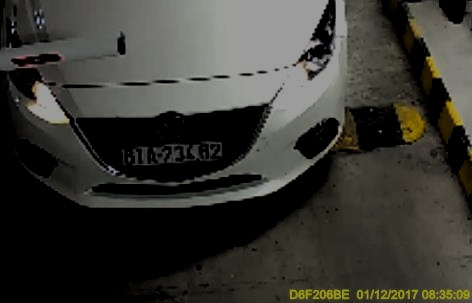plate: (115, 141, 226, 166)
